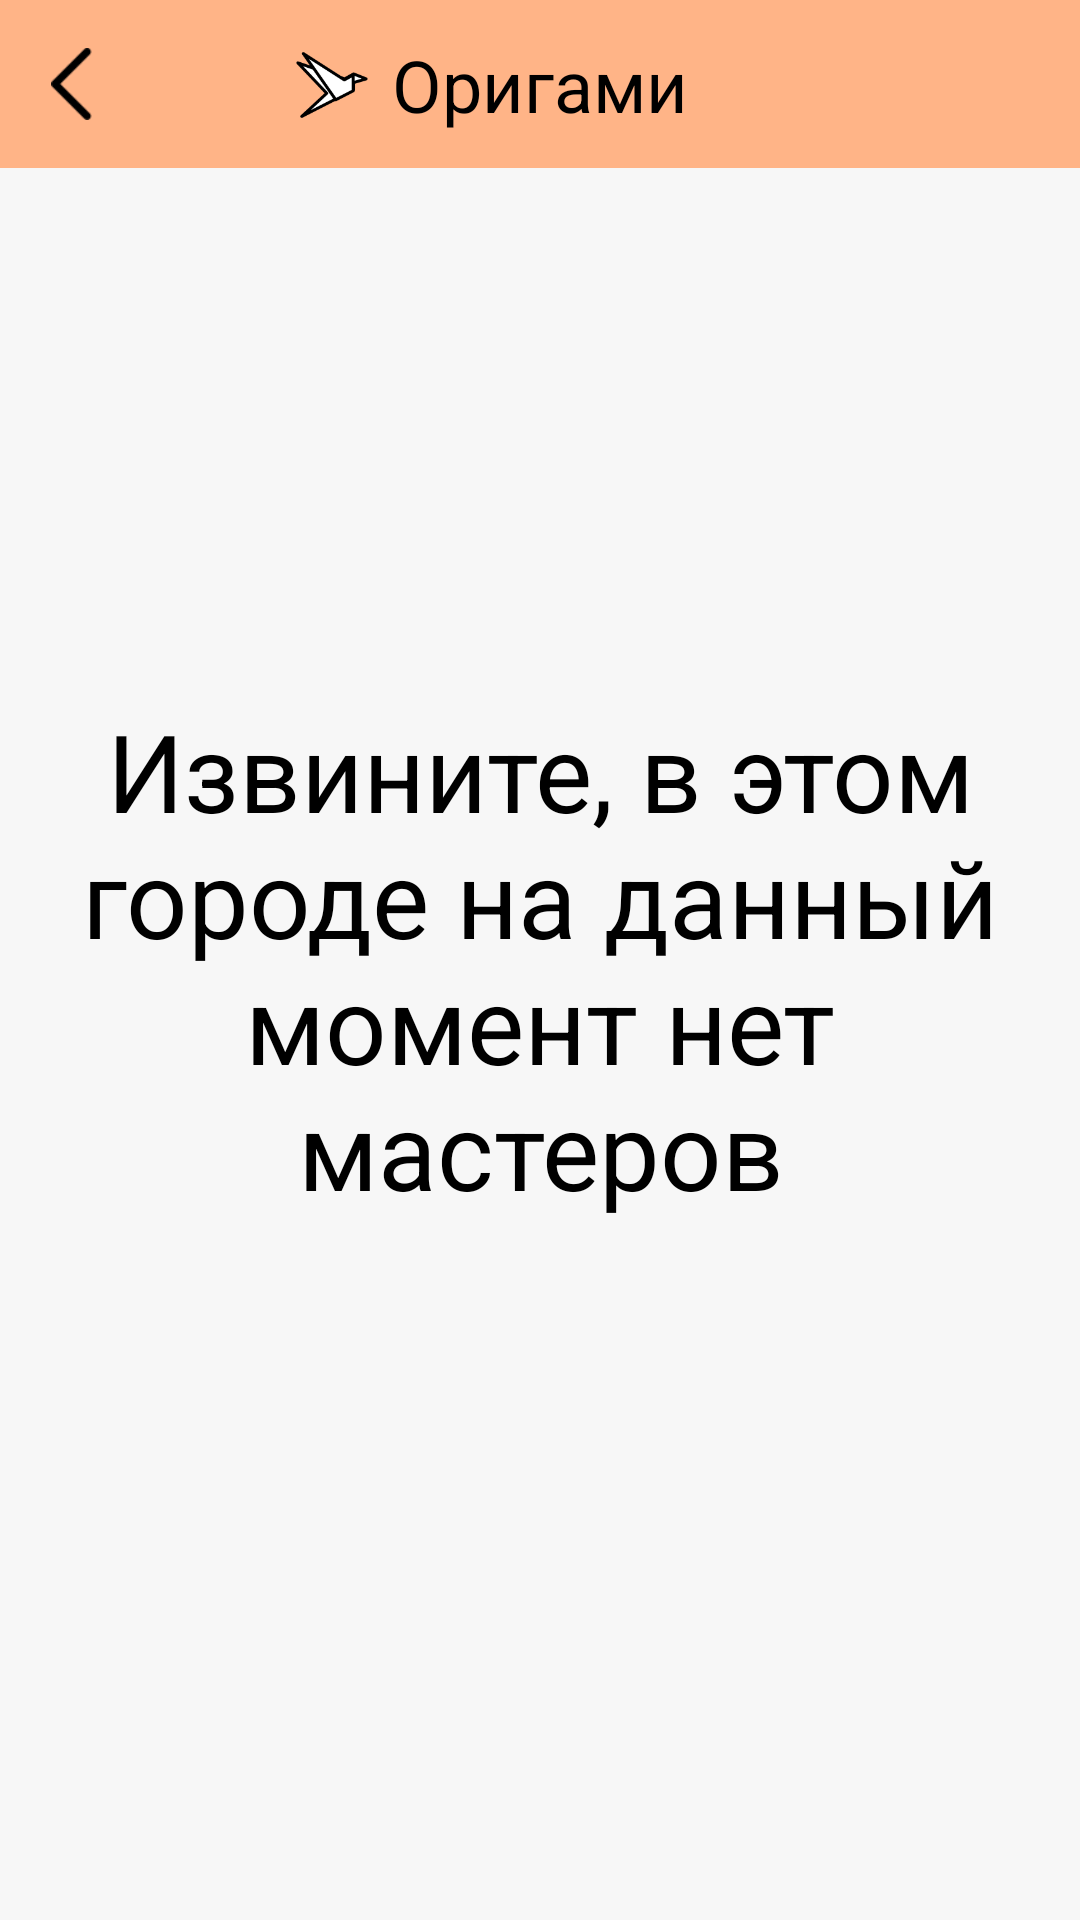

Where icons sit on this 1080 x 1920 app screen, as (x1, y1, x2, y2):
arrow back: (51, 48, 92, 120)
